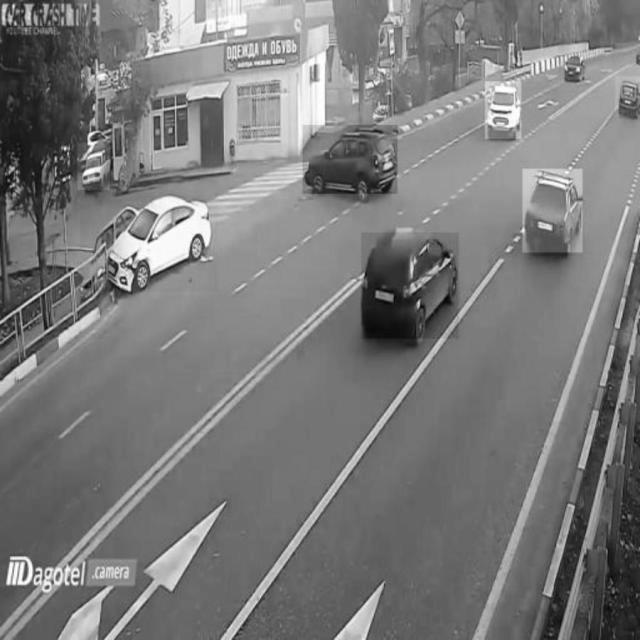accident: (80, 197, 217, 291)
vehicle: (362, 233, 460, 339), (302, 125, 398, 193), (523, 169, 583, 252), (486, 83, 522, 140), (78, 143, 110, 190), (615, 76, 640, 116), (561, 52, 588, 87)
